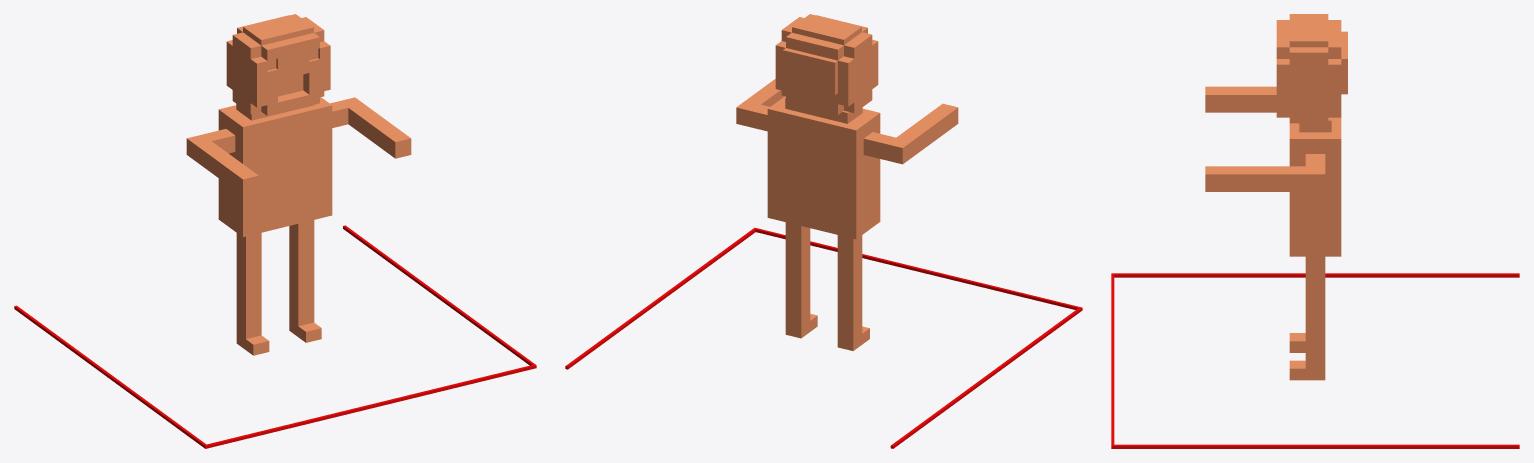
The model's file is food-0.obj.
The picture shows the model from 3 angles, left to right: view 1: azimuth 30°, elevation 25°; view 2: azimuth 150°, elevation 25°; view 3: azimuth 270°, elevation 25°; orthographic projection. The views are drawn at different scales.
Visible parts, largest first — view 1: food-0; view 2: food-0; view 3: food-0.
Part boxes in pixels (left/top/right/bottom): food-0: left=14, top=14, right=536, bottom=448; food-0: left=565, top=14, right=1082, bottom=448; food-0: left=1111, top=14, right=1519, bottom=448.
Size of the model in its own units: 126 by 114 by 126.
1 material, 1 textured.
